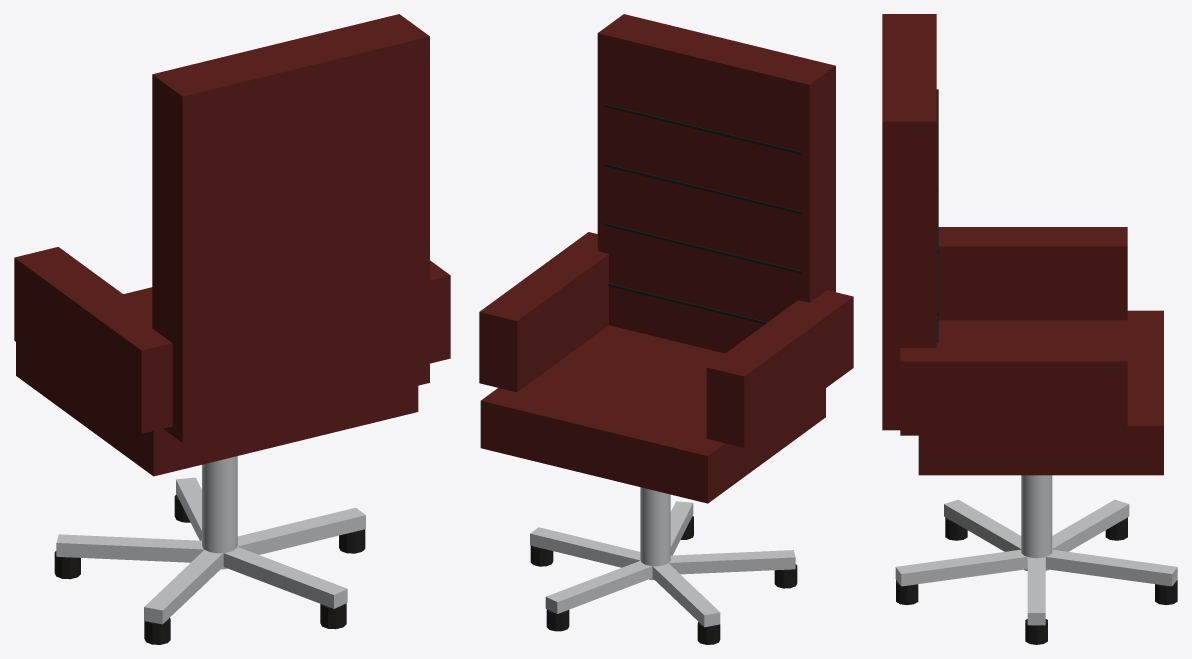
File: SM_80s_ExecChair.glb
The picture shows the model from 3 angles, left to right: view 1: azimuth 30°, elevation 25°; view 2: azimuth 150°, elevation 25°; view 3: azimuth 270°, elevation 25°; orthographic projection. The views are drawn at different scales.
Visible parts, largest first — view 1: SM_80s_ExecChair; view 2: SM_80s_ExecChair; view 3: SM_80s_ExecChair.
Boxes of the visible parts, <box> form: SM_80s_ExecChair: <box>14,14,450,644</box>; SM_80s_ExecChair: <box>479,14,853,644</box>; SM_80s_ExecChair: <box>882,14,1177,644</box>.
Bounding box in the file's own units: 0.924 × 1.65 × 0.8587.
